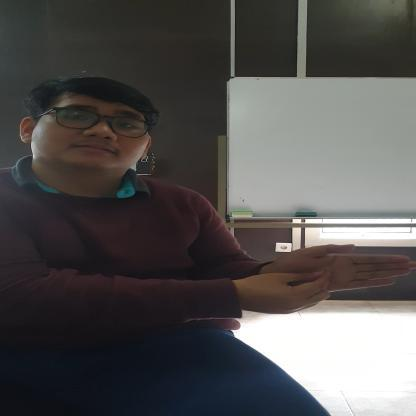Nama: (248, 241, 416, 320)
